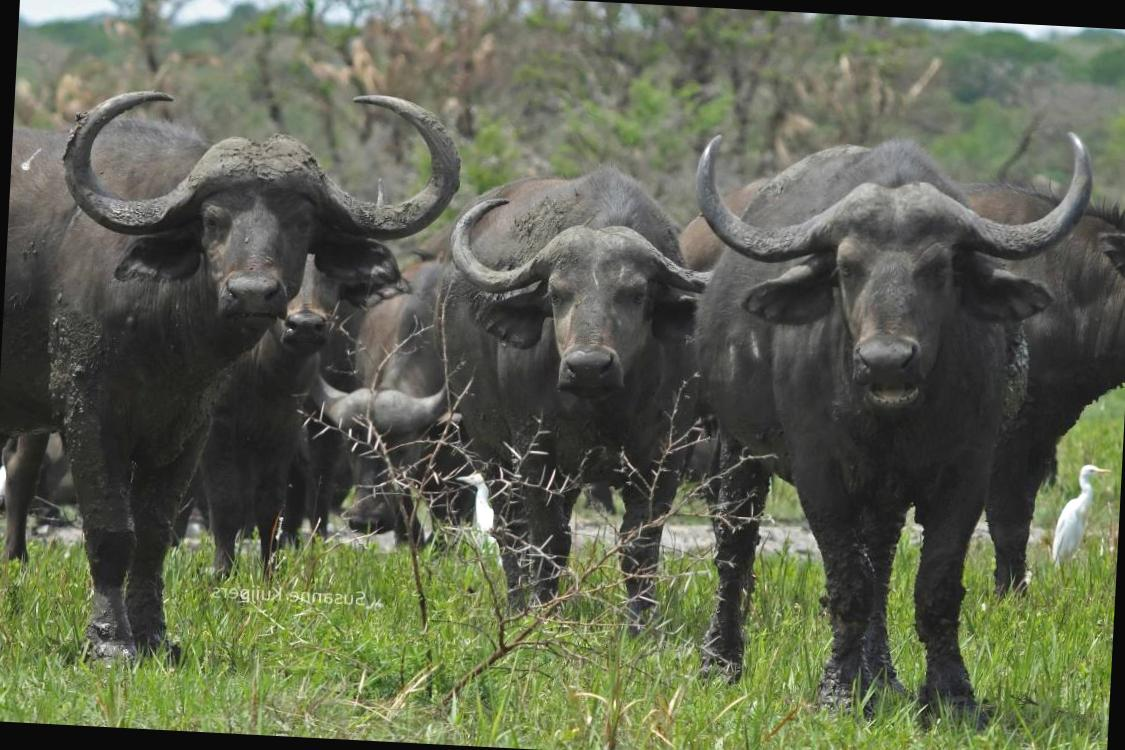Buffalo: (0, 9, 1116, 750)
